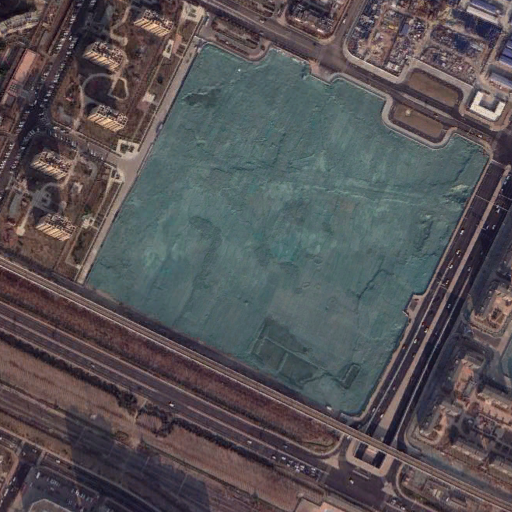cw: (84, 41, 488, 425)
